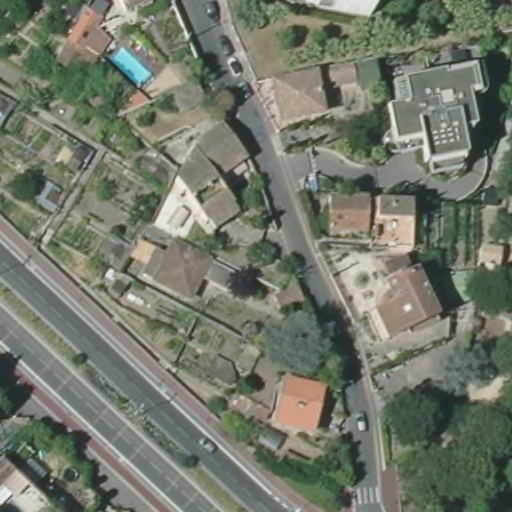pool: (113, 47, 152, 87)
